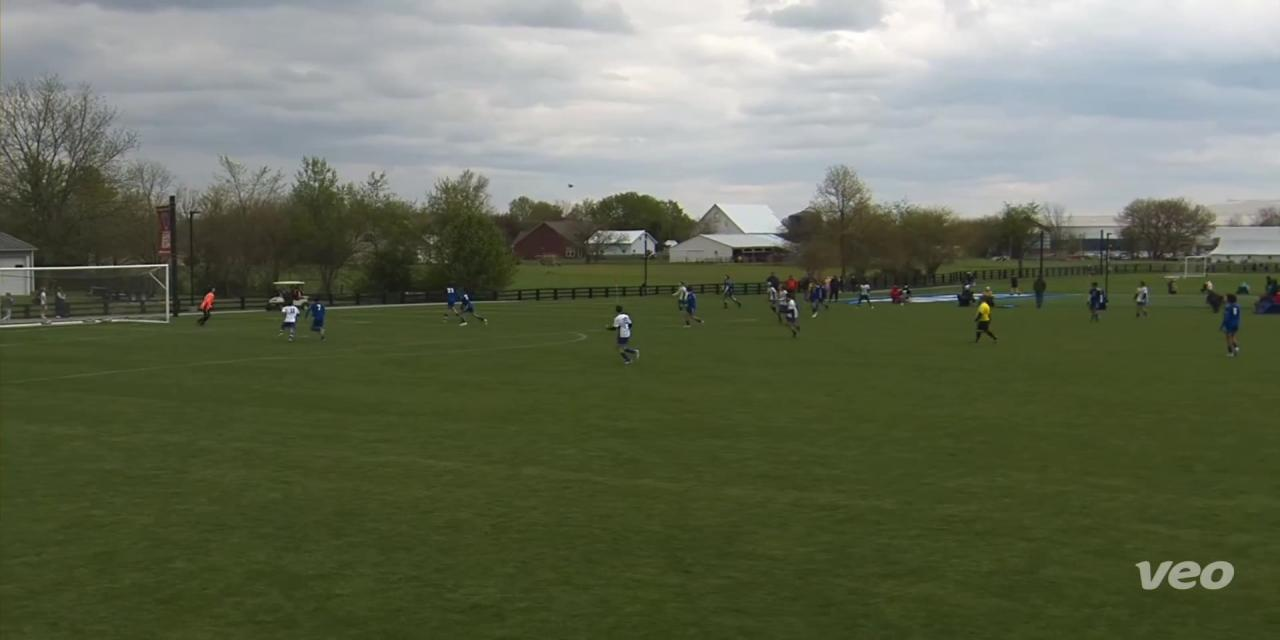goal: (0, 258, 194, 339)
sports ball: (561, 177, 581, 198)
